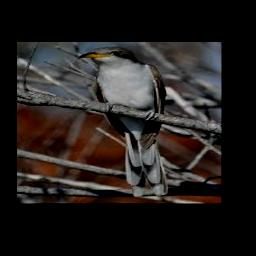Cuckoo: (79, 47, 167, 195)
